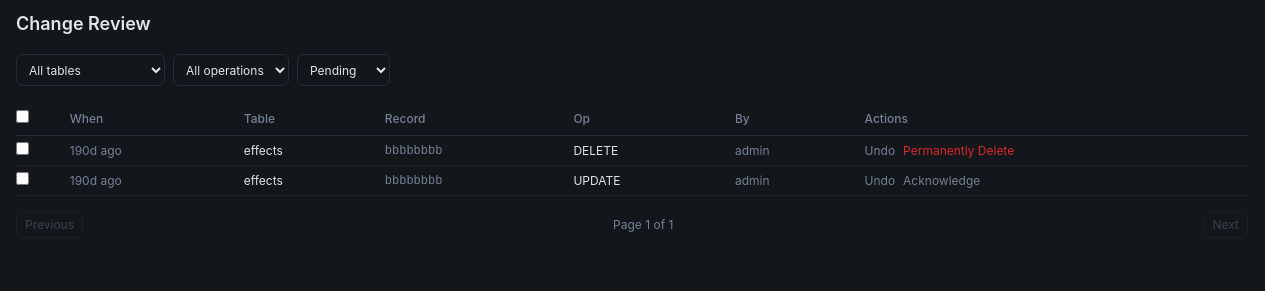
Test case: ChangeReviewPage › header select-all checkbox selects all visible entries
The image size is (1265, 291).
Click the checkbox named "select all": (22, 116) x1=16 y1=110 x2=29 y2=123
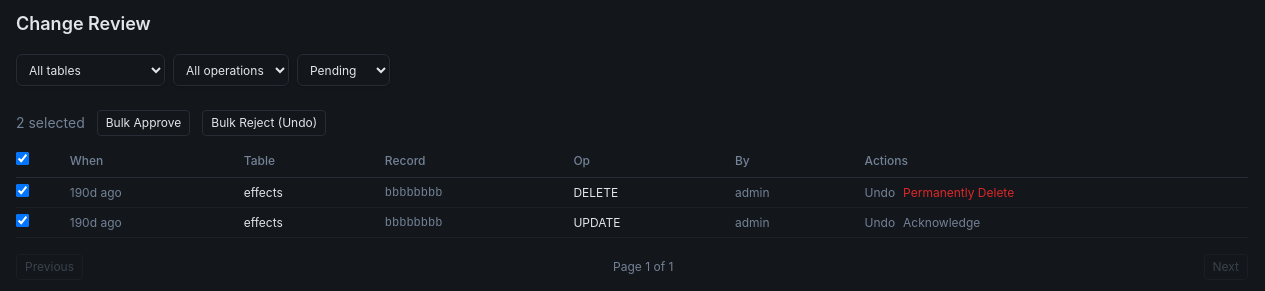
Expected: the 2nd checkbox is checked, x1=16 y1=184 x2=29 y2=197
Expected: the checkbox in the row of "UPDATE" is checked, x1=16 y1=214 x2=29 y2=227
